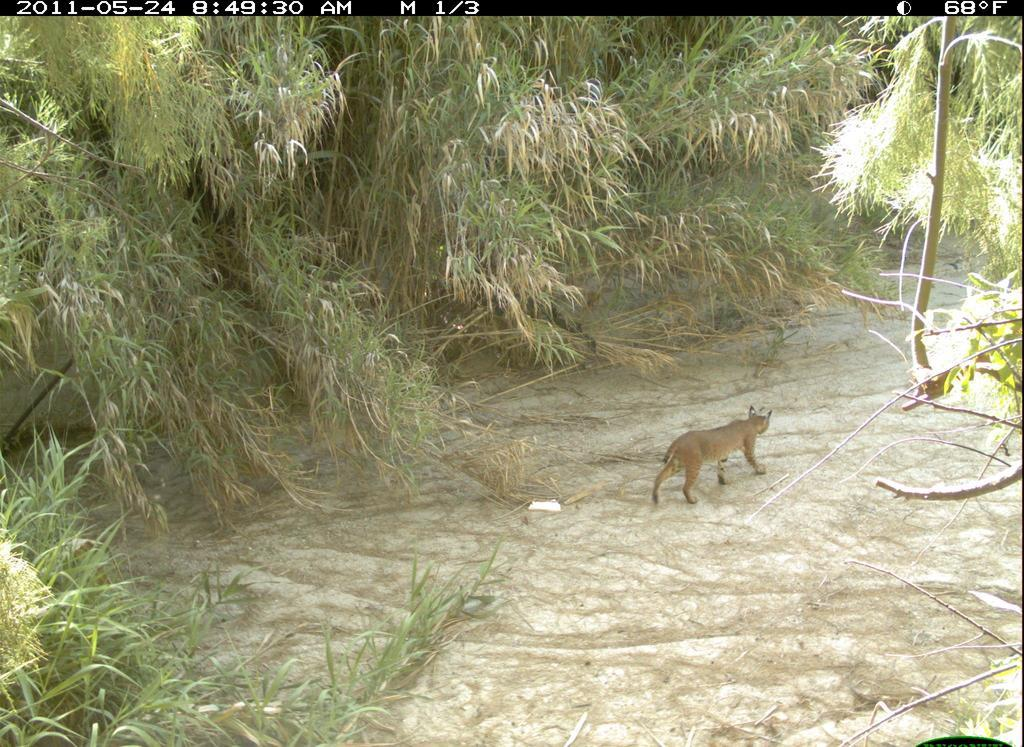bobcat: (643, 402, 777, 511)
